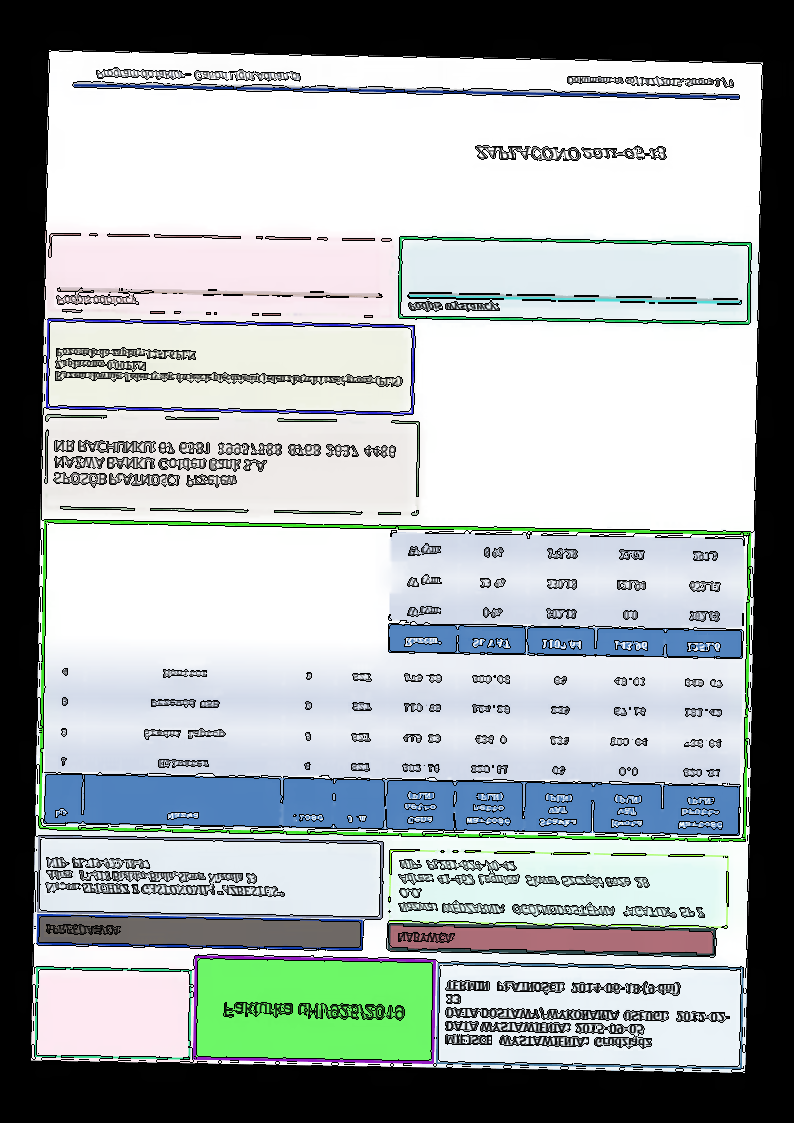Table: (42, 649, 743, 838), (387, 529, 746, 660)
TextBox: (443, 977, 734, 1053), (395, 855, 709, 921), (51, 435, 398, 494), (53, 346, 404, 390), (44, 855, 287, 900), (473, 139, 667, 167), (94, 64, 303, 87), (221, 998, 407, 1023), (565, 73, 735, 91), (406, 297, 501, 317), (54, 291, 140, 310), (42, 921, 125, 940), (395, 928, 456, 946)
